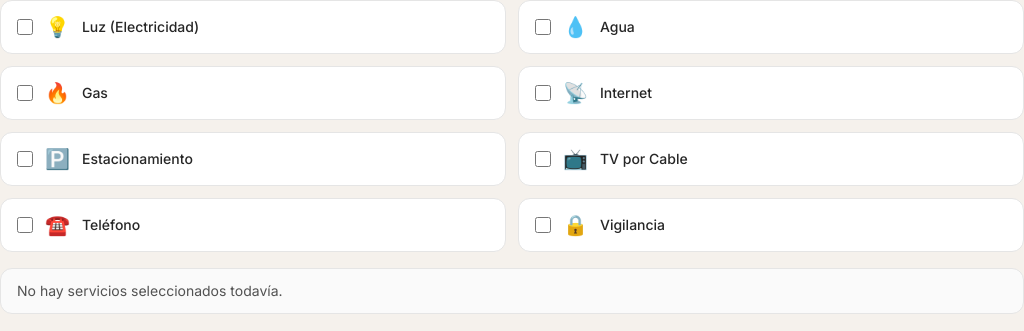
Test: RentalServicesSelector › toggles services and updates the summary
Expected: the text "No hay servicios seleccionados todavía." is shown, [0,268,1023,314]
Click the checkbox labelled "Luz (Electricidad)" at (25, 27), box [17,19,33,35]
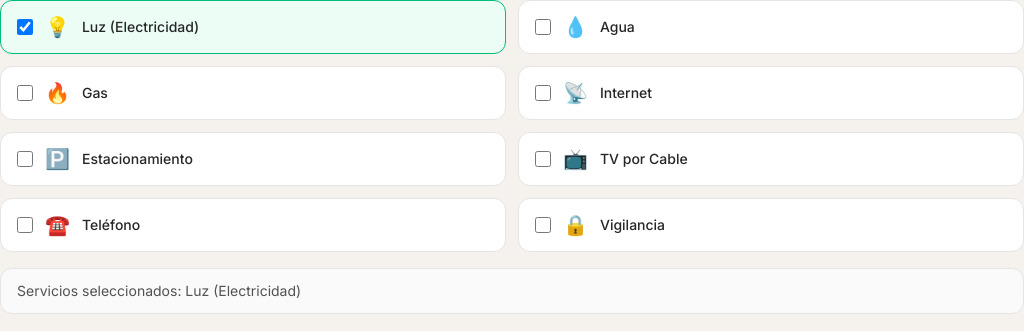
Click the checkbox labelled "Internet" at (543, 93), box [535,85,551,101]
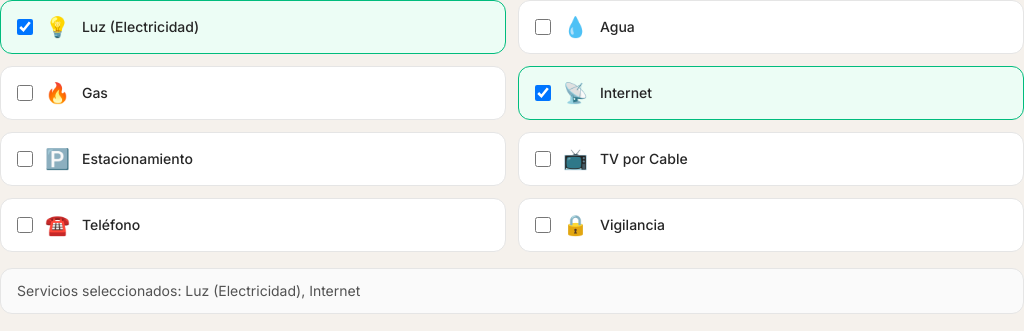
Now the text "Servicios seleccionados: Luz (Electricidad), Internet" is shown, box [0,268,1023,314]
Click the checkbox labelled "Luz (Electricidad)" at (25, 27), box [17,19,33,35]
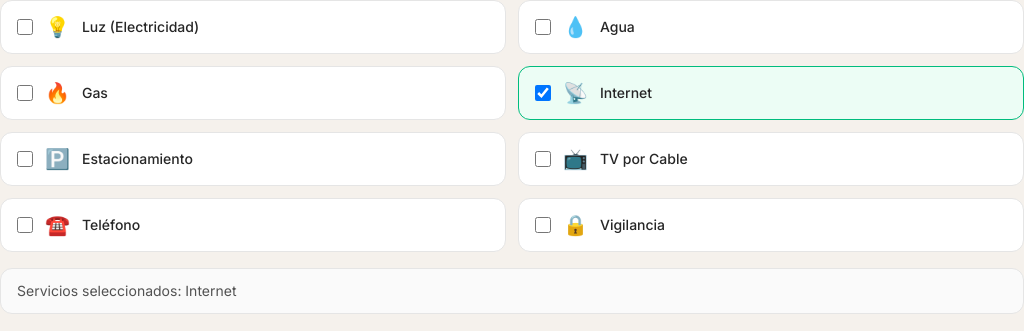
Now the text "Servicios seleccionados: Internet" is shown, box [0,268,1023,314]
